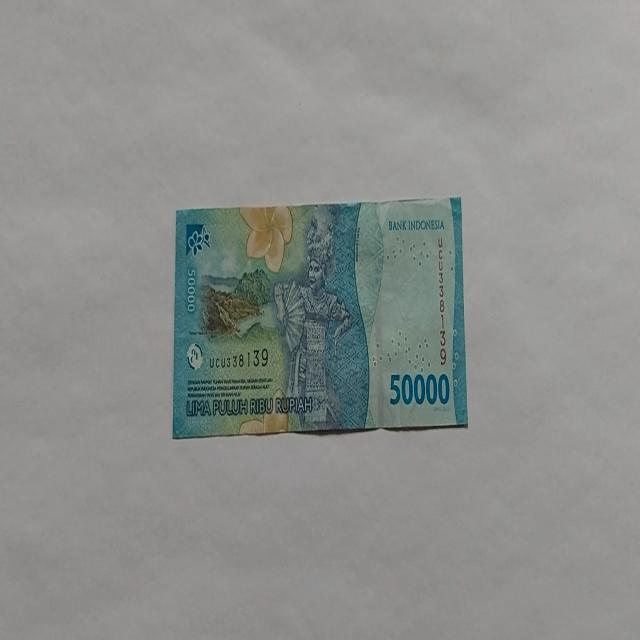lima puluh ribu rupiah: (172, 195, 468, 438), (272, 213, 354, 431)
